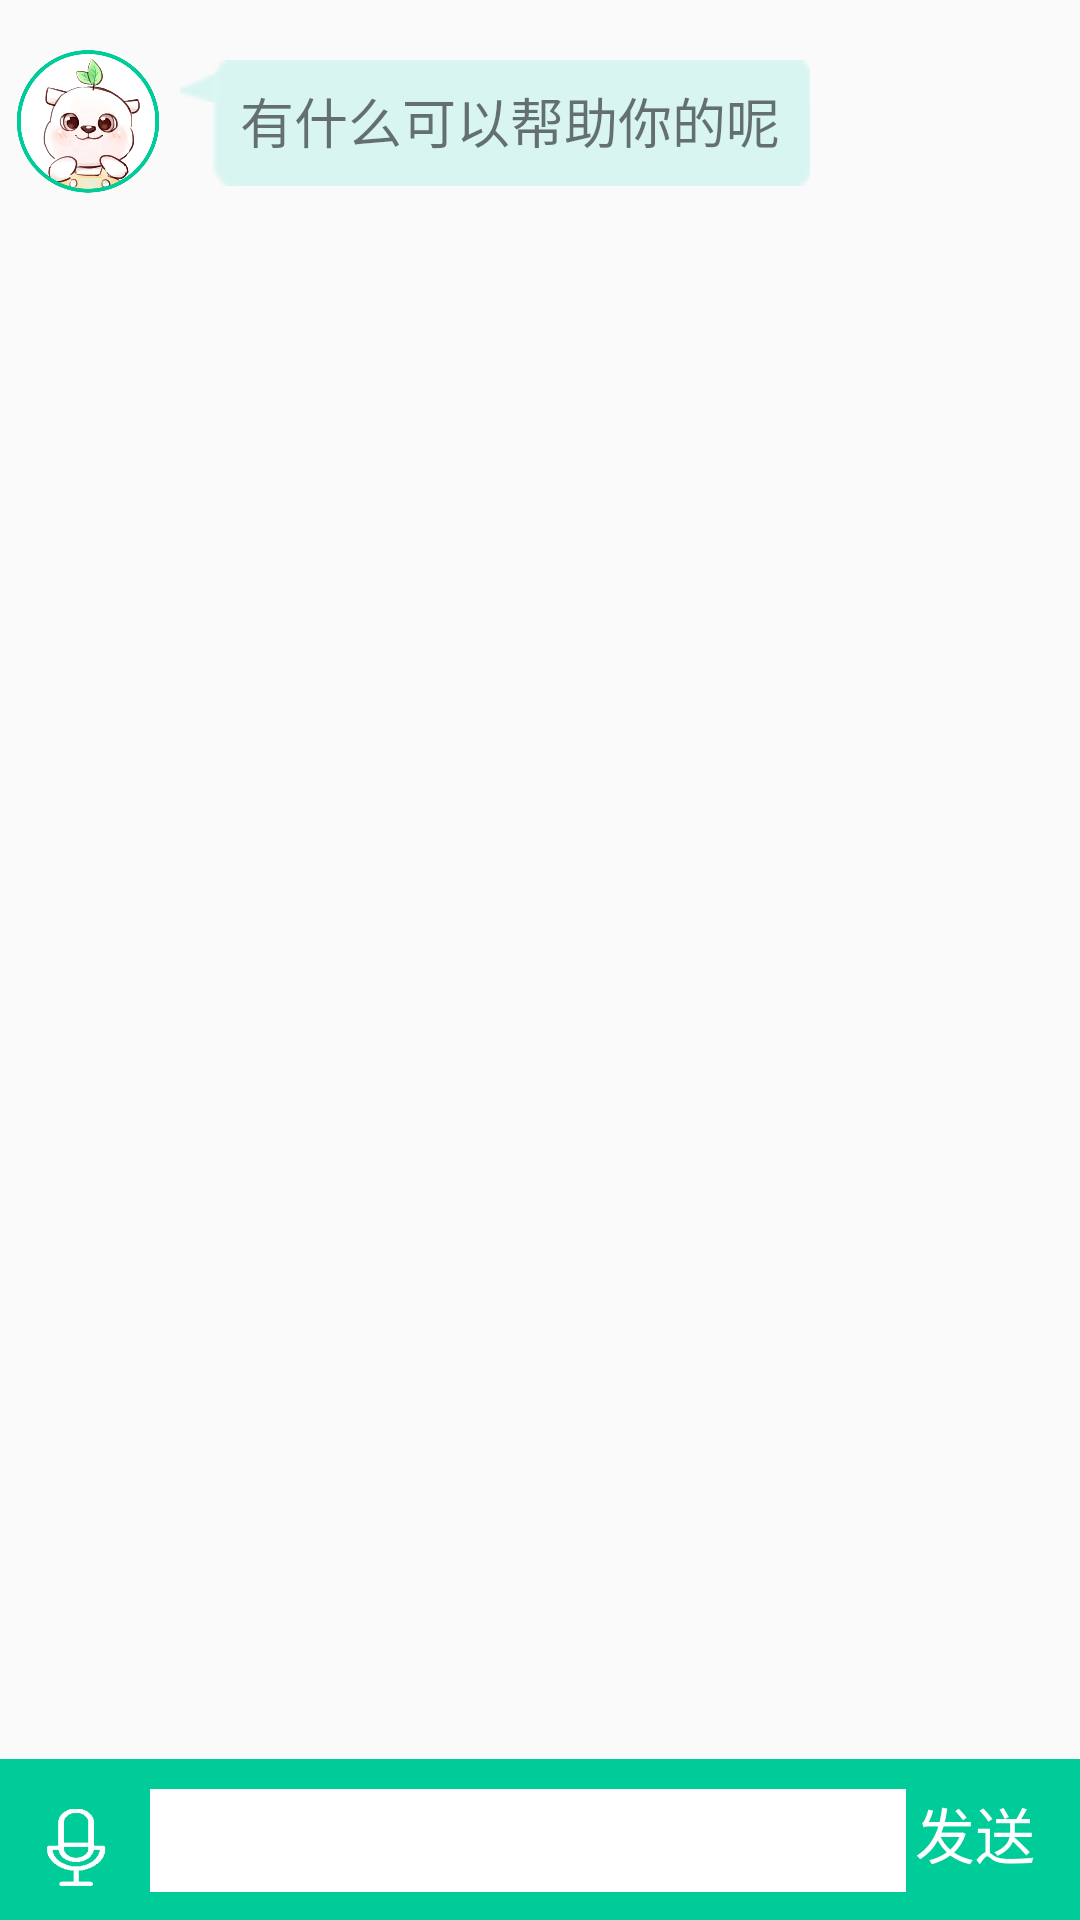

Screen size 1080x1920. Icon name, then its box in pixels as (x1, y1, x2, y2):
head: (17, 50, 159, 193)
speak: (47, 1809, 106, 1886)
